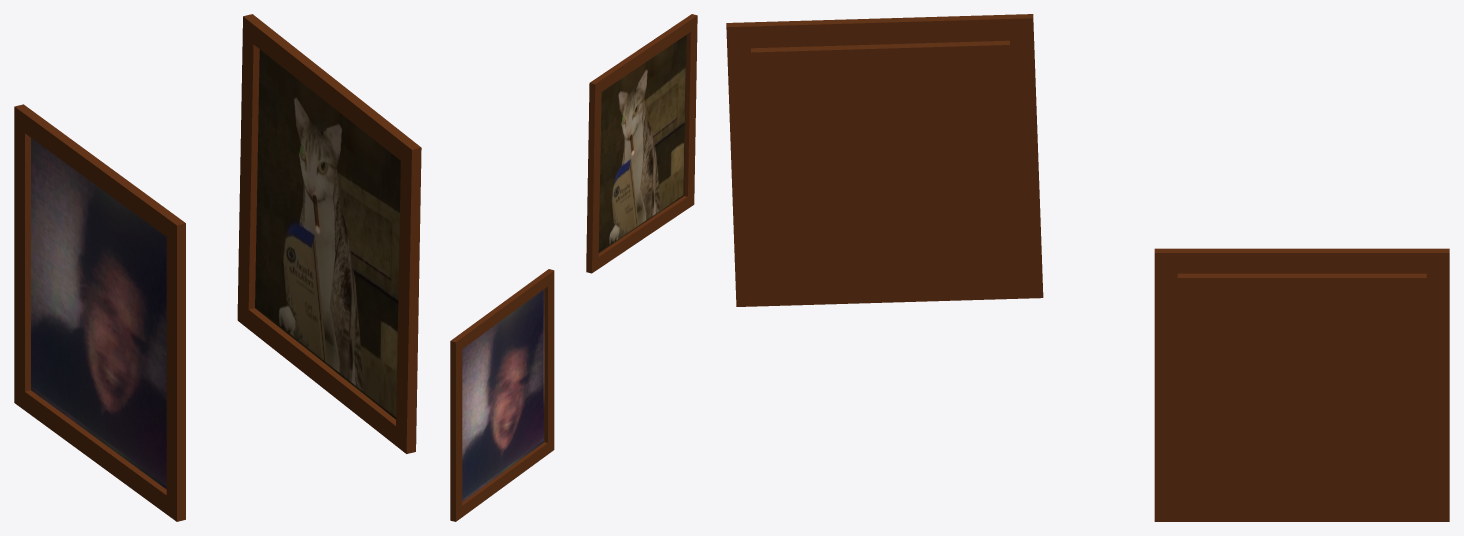
The model's file is рамки.fbx.
3 views of the same model, side by side, from view 1: azimuth 30°, elevation 25°; view 2: azimuth 150°, elevation 25°; view 3: azimuth 270°, elevation 25° (orthographic). The views are drawn at different scales.
Visible parts, largest first — view 1: Cube.061, Cube.048; view 2: Cube.061, Cube.048; view 3: Cube.061, Cube.048.
Part boxes in pixels (bbox=[...]): Cube.061: bbox=[237, 14, 421, 453]; Cube.048: bbox=[14, 104, 185, 521]; Cube.061: bbox=[586, 14, 697, 273]; Cube.048: bbox=[450, 269, 554, 521]; Cube.061: bbox=[726, 14, 1043, 306]; Cube.048: bbox=[1154, 248, 1449, 521].
Size of the model in its own units: 7.62 by 0.2104 by 5.86.
